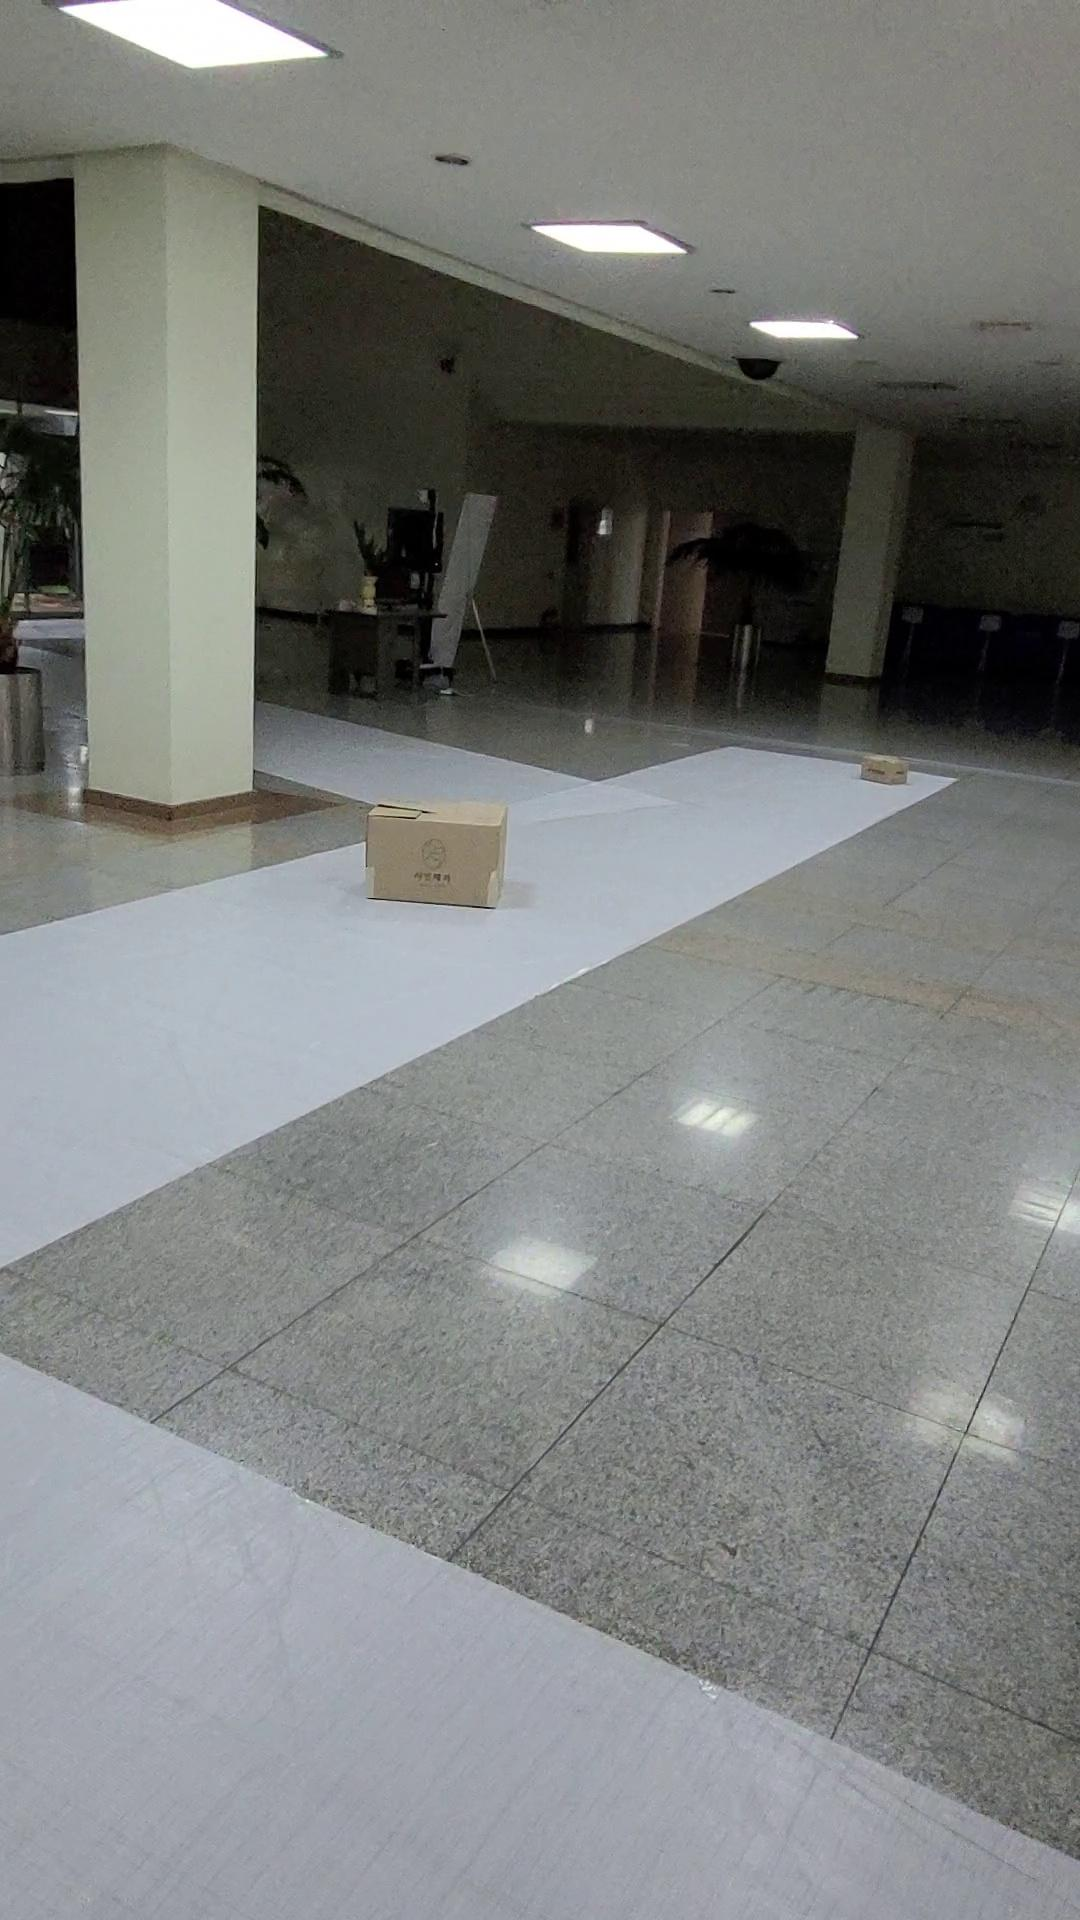Box: (295, 756, 543, 975), (814, 723, 964, 860)
